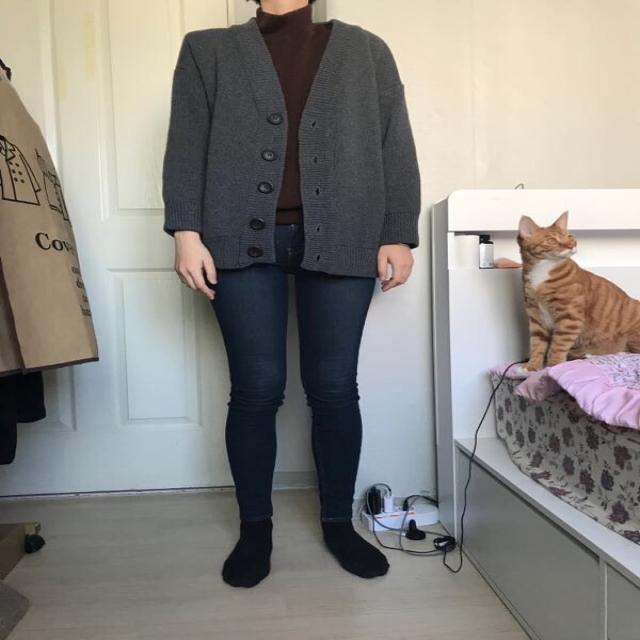cardigan: (160, 22, 423, 278)
denimpants: (220, 219, 380, 545)
